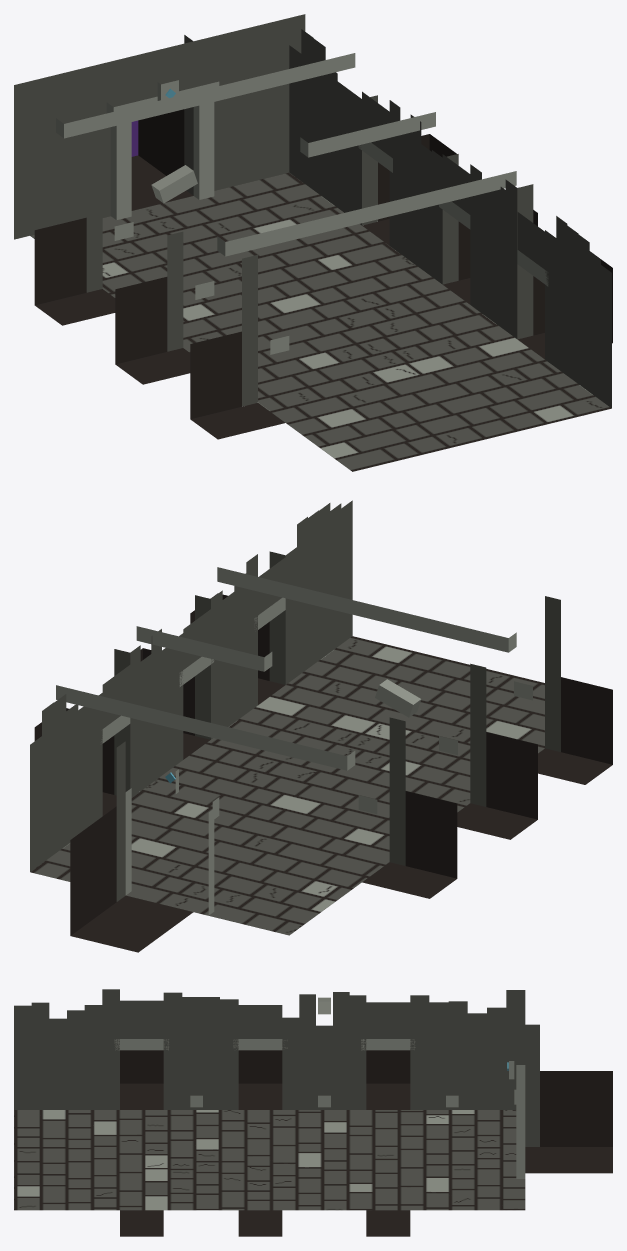
File: hall.glb
3 views of the same model, one above another, from view 1: azimuth 30°, elevation 25°; view 2: azimuth 150°, elevation 25°; view 3: azimuth 270°, elevation 25° (orthographic). The views are drawn at different scales.
Parts seen in each view (by area): view 1: Floor, FarL, FarR, BeamC, BeamA, PSideB24, PSideB26, PSideB22, W33, FarTop, GSideR, W15 (+35 smaller); view 2: Floor, BeamA, BeamC, GSideR, PSideA26, PSideA22, PSideA24, GFloor, W32, W36, W14, W5 (+32 smaller); view 3: Floor, GSideL, GFloor, W6, W15, W5, W7, W16, W8, W9, W17, W14 (+29 smaller).
Boxes of the visible parts, left/top/right/bottom form: Floor: left=30, top=172, right=611, bottom=471; FarL: left=14, top=58, right=125, bottom=239; FarR: left=184, top=14, right=305, bottom=195; BeamC: left=56, top=53, right=355, bottom=138; BeamA: left=217, top=171, right=516, bottom=256; PSideB24: left=115, top=277, right=167, bottom=364; PSideB26: left=34, top=217, right=86, bottom=305; PSideB22: left=190, top=331, right=241, bottom=419; W33: left=505, top=179, right=533, bottom=339; FarTop: left=125, top=41, right=193, bottom=103; GSideR: left=138, top=109, right=184, bottom=175; W15: left=86, top=144, right=102, bottom=292; Floor: left=30, top=636, right=544, bottom=935; BeamA: left=217, top=567, right=516, bottom=652; BeamC: left=56, top=685, right=355, bottom=770; GSideR: left=70, top=806, right=116, bottom=935; PSideA26: left=405, top=791, right=457, bottom=878; PSideA22: left=561, top=677, right=612, bottom=764; PSideA24: left=486, top=732, right=537, bottom=819; GFloor: left=71, top=895, right=193, bottom=952; W32: left=269, top=547, right=296, bottom=684; W36: left=195, top=590, right=222, bottom=739; W14: left=389, top=717, right=405, bottom=865; W5: left=545, top=596, right=560, bottom=751; Floor: left=14, top=1110, right=525, bottom=1210; GSideL: left=540, top=1071, right=612, bottom=1146; GFloor: left=525, top=1147, right=612, bottom=1173; W6: left=163, top=992, right=182, bottom=1109; W15: left=410, top=995, right=429, bottom=1109; W5: left=102, top=989, right=119, bottom=1109; W7: left=182, top=997, right=201, bottom=1109; W16: left=429, top=1002, right=448, bottom=1109; W8: left=201, top=997, right=219, bottom=1109; W9: left=220, top=999, right=238, bottom=1109; W17: left=448, top=1001, right=467, bottom=1109; W14: left=349, top=995, right=366, bottom=1109.
Size of the model in its own units: 19.8 by 7.4 by 32.8.
6 materials, 1 textured.
